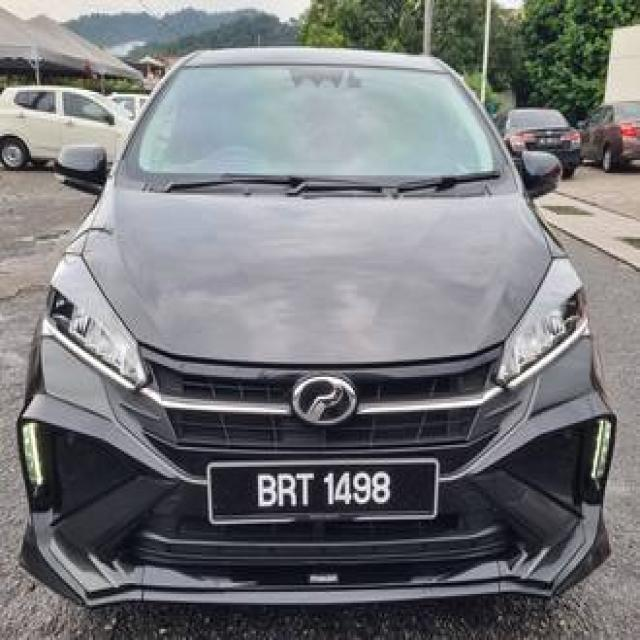PeroduaMyvi: (14, 42, 616, 609)
